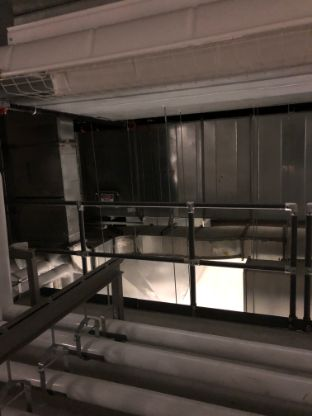Duct: (1, 108, 93, 278), (95, 222, 312, 268)
